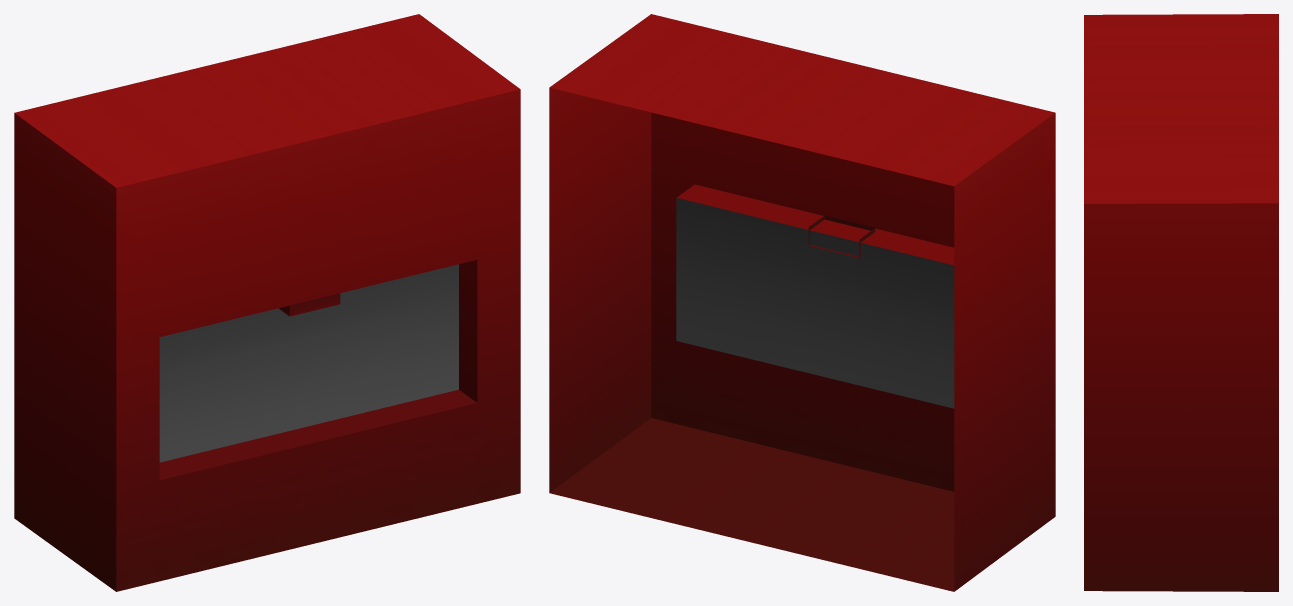
The model's file is Wall_FireAlarm.fbx.
3 renders of one model, left to right at view 1: azimuth 30°, elevation 25°; view 2: azimuth 150°, elevation 25°; view 3: azimuth 270°, elevation 25°, orthographic. The views are drawn at different scales.
Visible parts, largest first — view 1: Wall_FireAlarm; view 2: Wall_FireAlarm; view 3: Wall_FireAlarm.
Boxes of the visible parts, box(x1,y1,x2,y2) form: Wall_FireAlarm: box(14, 14, 520, 591); Wall_FireAlarm: box(549, 14, 1055, 591); Wall_FireAlarm: box(1084, 14, 1278, 591).
Size of the model in its own units: 14.53 by 13.91 by 6.32.
